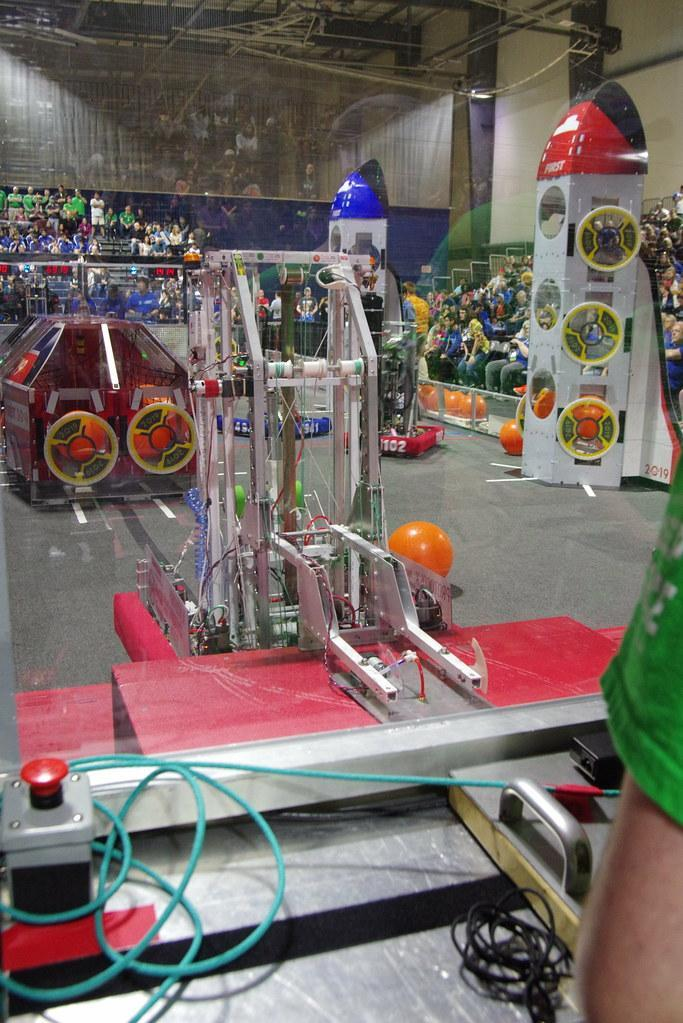robot: (93, 233, 517, 746), (326, 303, 454, 454), (221, 316, 333, 444)
